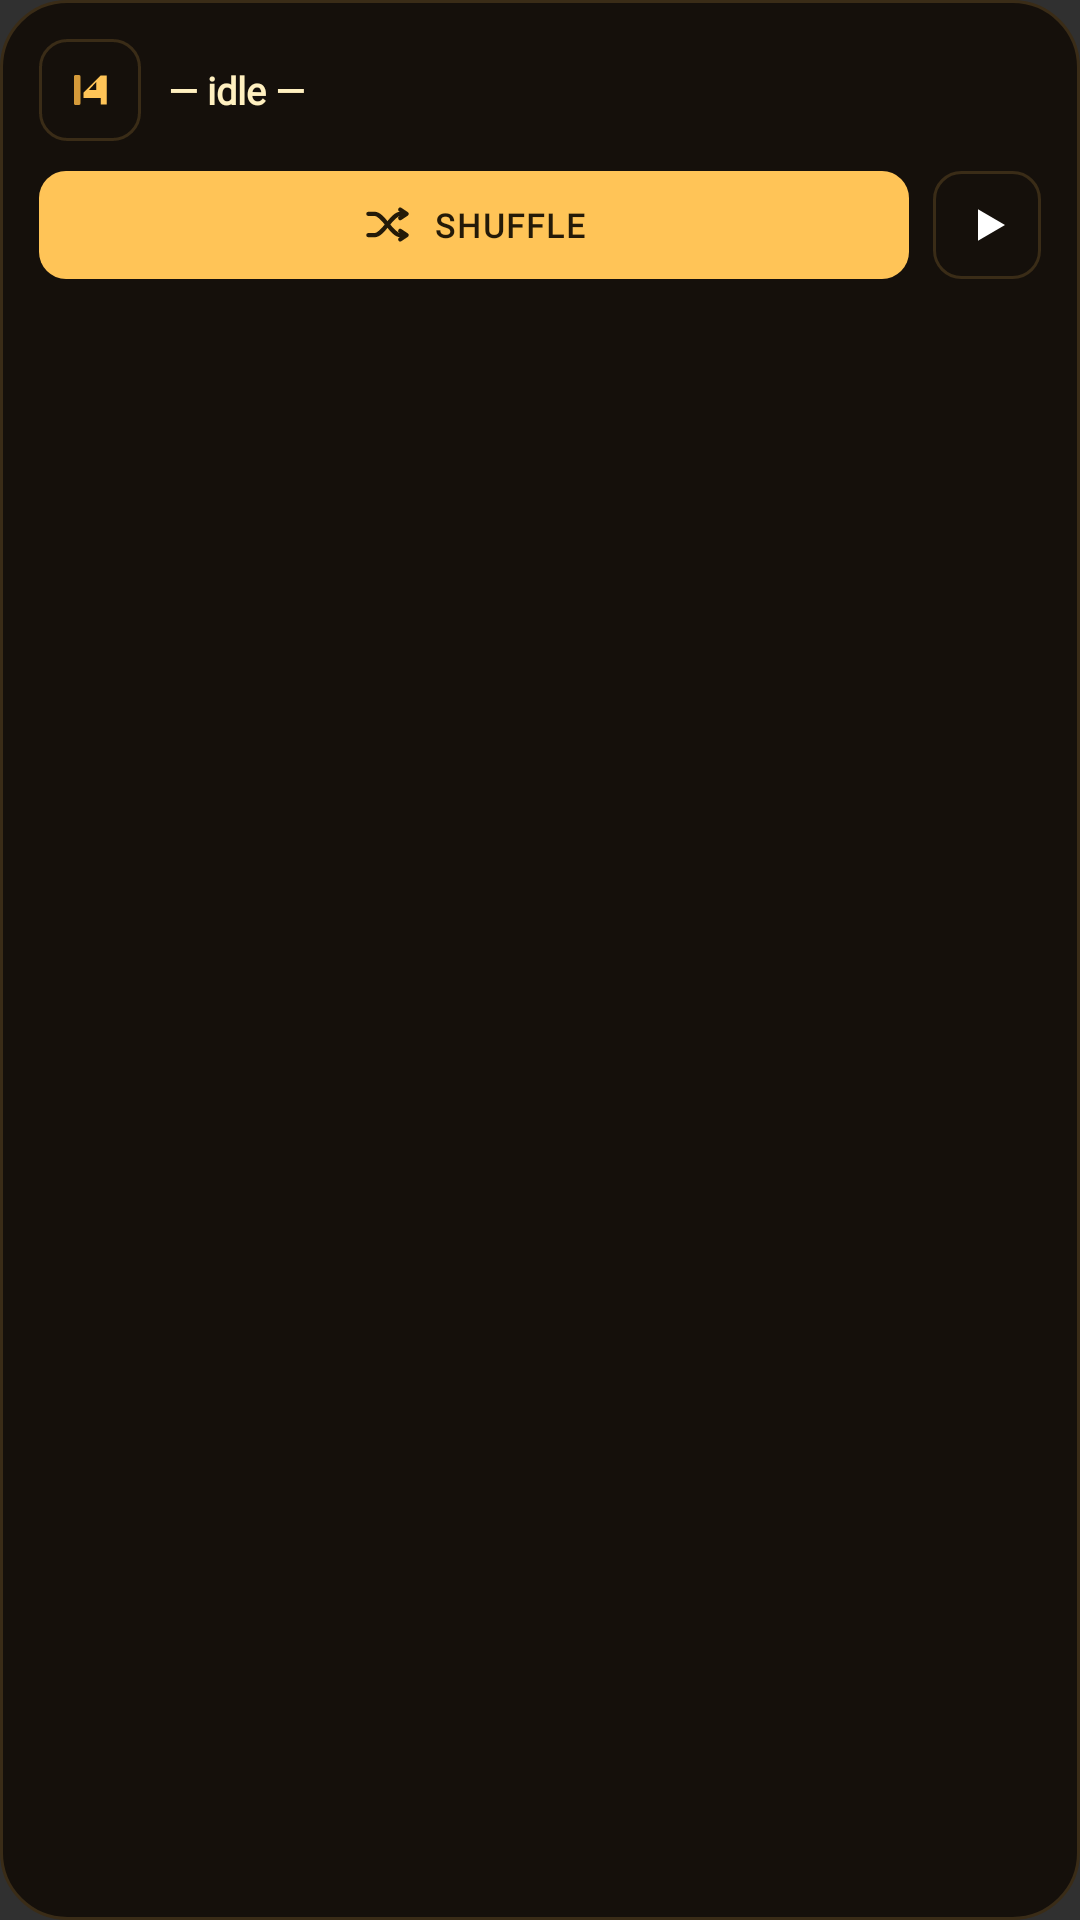

Point at icon controls on the screen. Image size 1080px×1920px, points as (x=x, y=y).
play or pause: (x=987, y=225)
